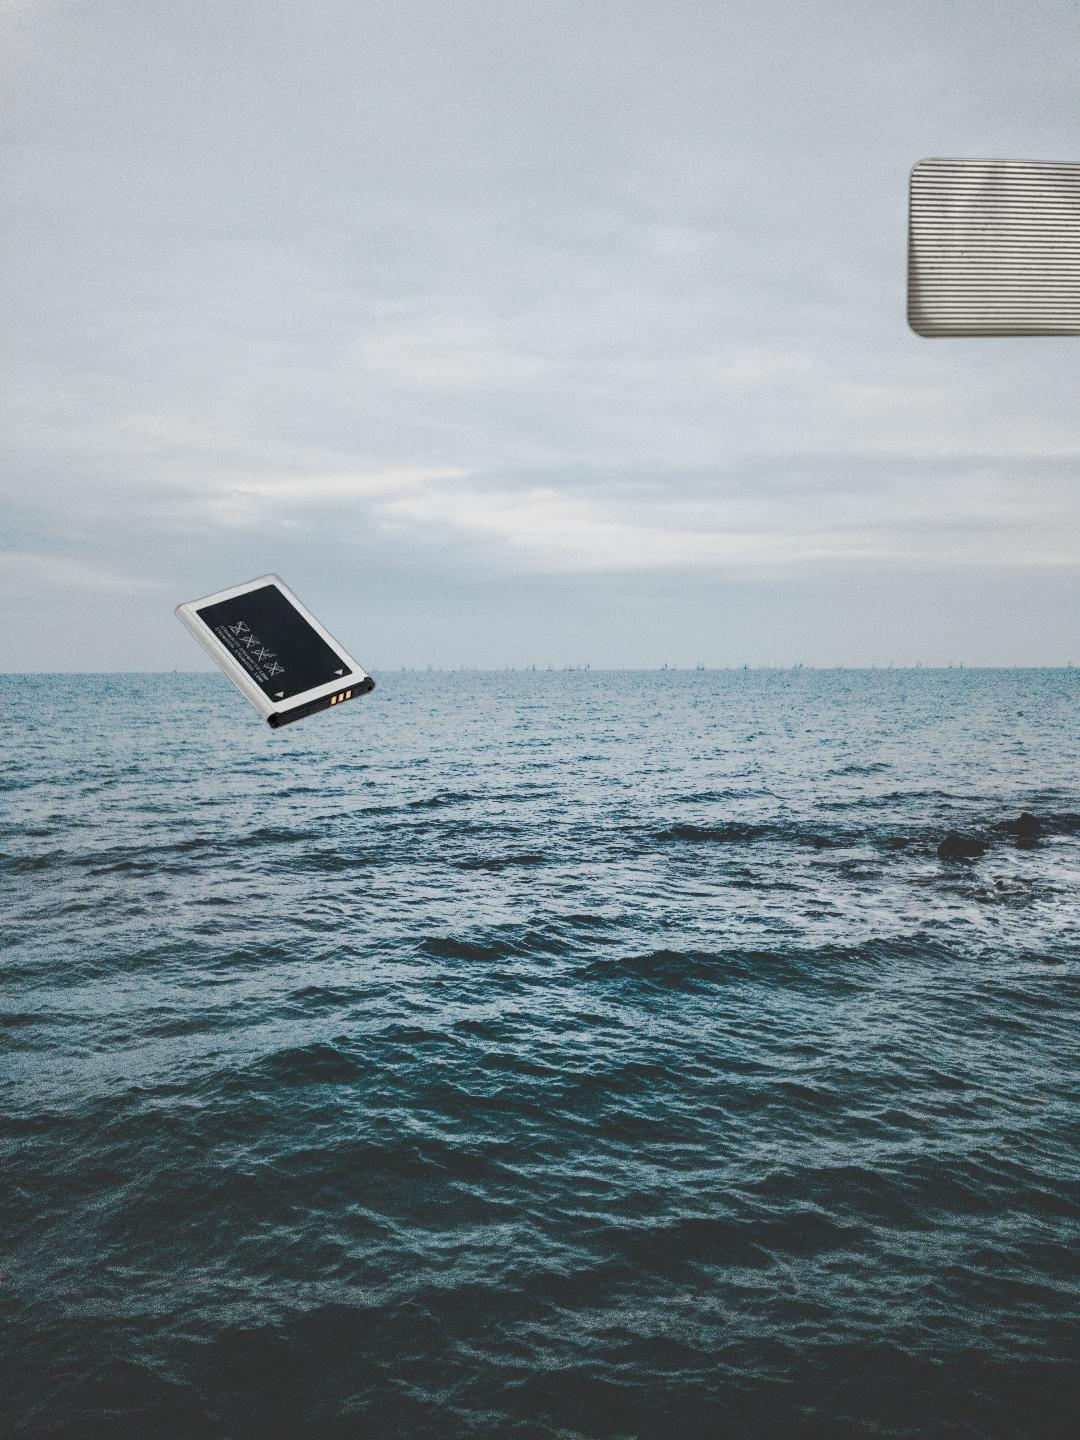battery: (171, 570, 379, 732)
paper: (902, 154, 1080, 342)
